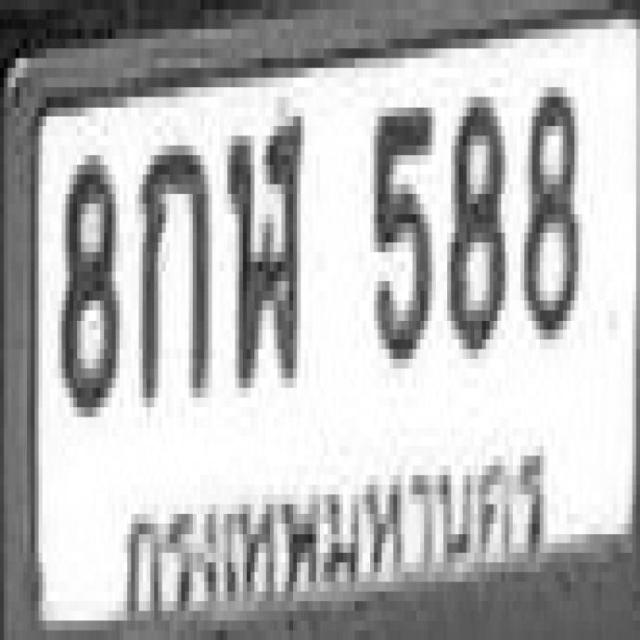5: (370, 98, 430, 351)
8: (57, 146, 114, 407), (445, 89, 502, 346), (520, 79, 575, 330)
A01: (135, 135, 206, 396)
A42: (224, 106, 298, 378)
BKK: (113, 433, 556, 611)
